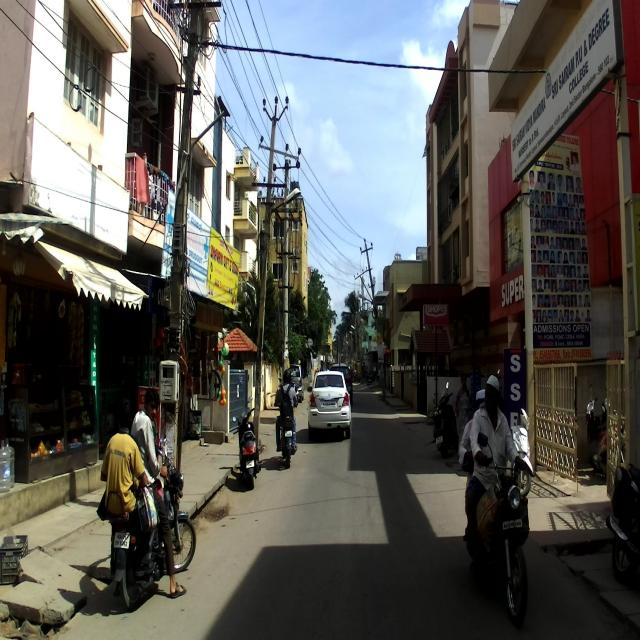Car_Maruti-Suzuki: (307, 368, 351, 439)
motorcycle_Honda: (274, 388, 300, 469)
motorcycle_TVS: (109, 432, 196, 612), (466, 431, 529, 626)
scooter: (232, 396, 261, 490), (428, 380, 459, 460)
